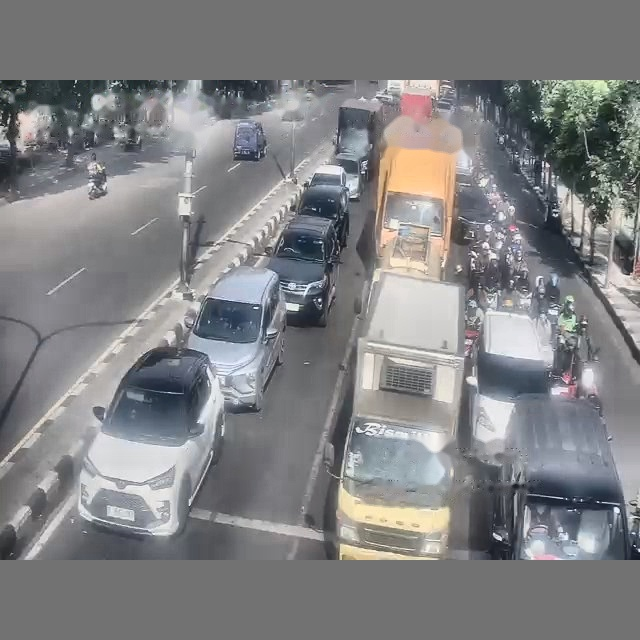Mobil: (78, 347, 224, 536), (492, 394, 636, 559), (185, 266, 285, 410), (466, 310, 552, 463), (265, 215, 339, 326), (297, 184, 349, 248), (333, 152, 367, 200), (233, 120, 267, 160), (307, 164, 346, 187), (281, 101, 304, 121)
Motor: (88, 175, 106, 199)
Truk: (336, 271, 464, 559)
